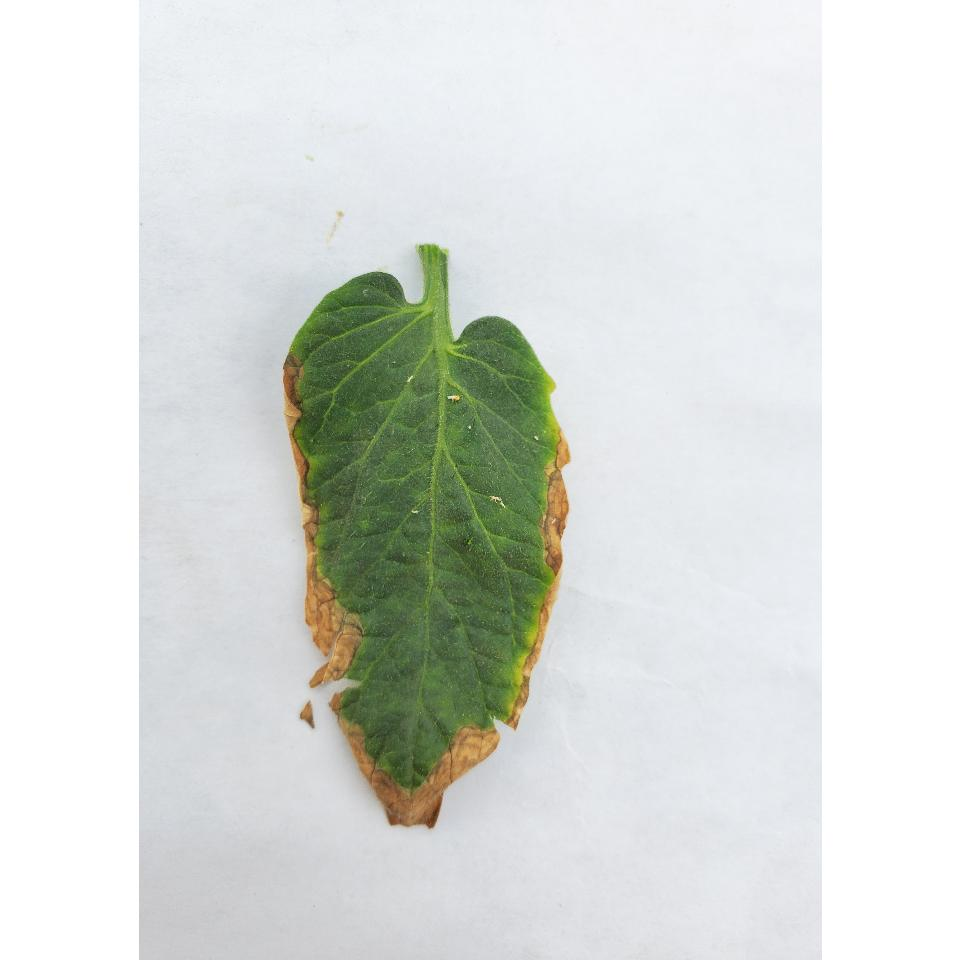tomato_bacterial_blight: (281, 244, 588, 832)
